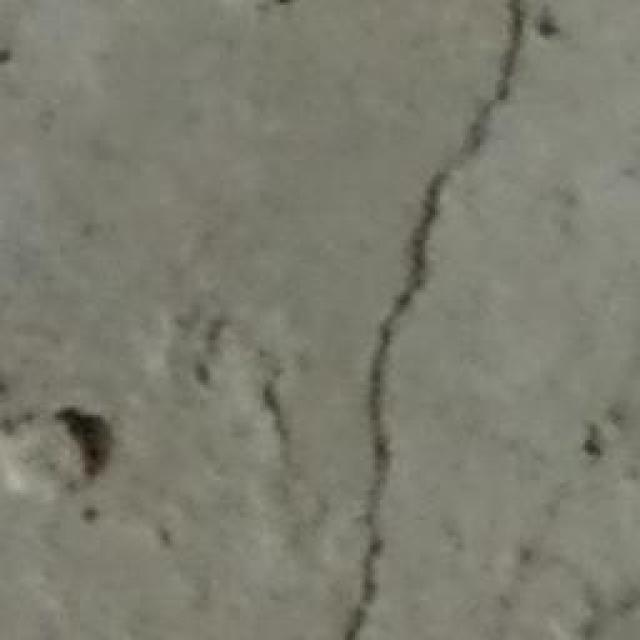Annular: (0, 370, 162, 550)
Longitudinal: (341, 0, 540, 640)
Rippled: (174, 303, 318, 505)
